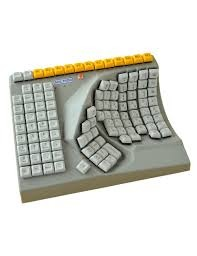keyboard: (1, 42, 187, 204)
